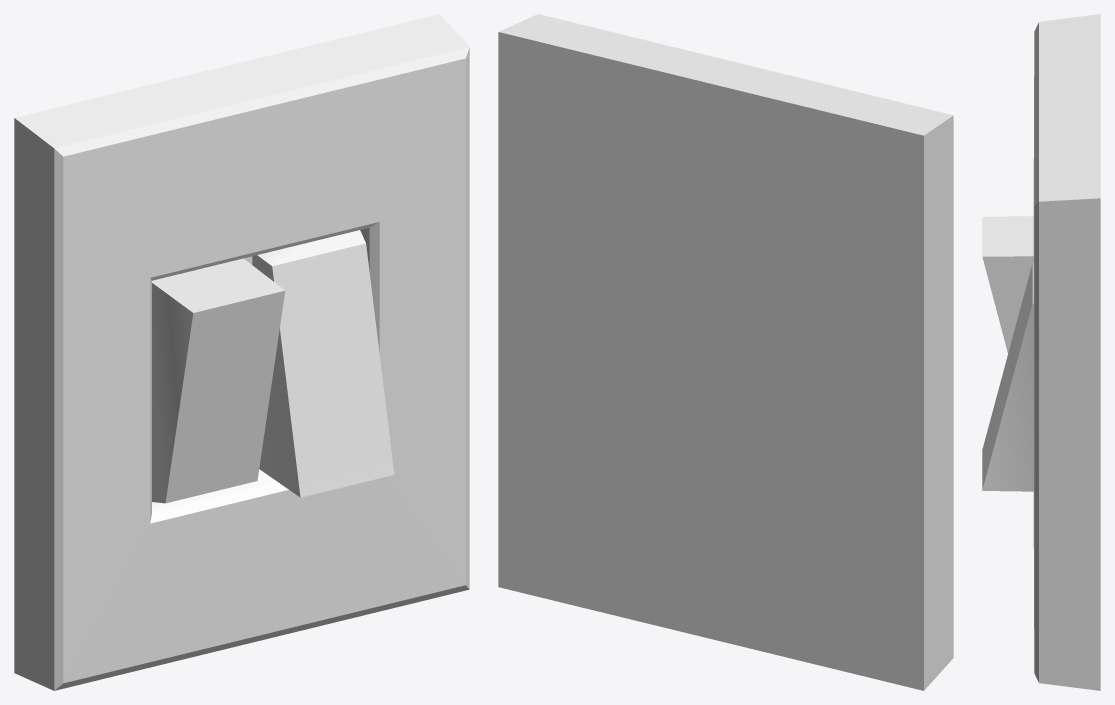
File: Switch.FBX
3 views of the same model, side by side, from view 1: azimuth 30°, elevation 25°; view 2: azimuth 150°, elevation 25°; view 3: azimuth 270°, elevation 25° (orthographic). The views are drawn at different scales.
Parts seen in each view (by area): view 1: Switch; view 2: Switch; view 3: Switch.
Boxes of the visible parts, x1=… form: Switch: x1=14, y1=14, x2=469, y2=690; Switch: x1=498, y1=14, x2=953, y2=690; Switch: x1=982, y1=14, x2=1100, y2=690.
Size of the model in its own units: 9.03 by 11.25 by 2.45.
1 material, 1 textured.
